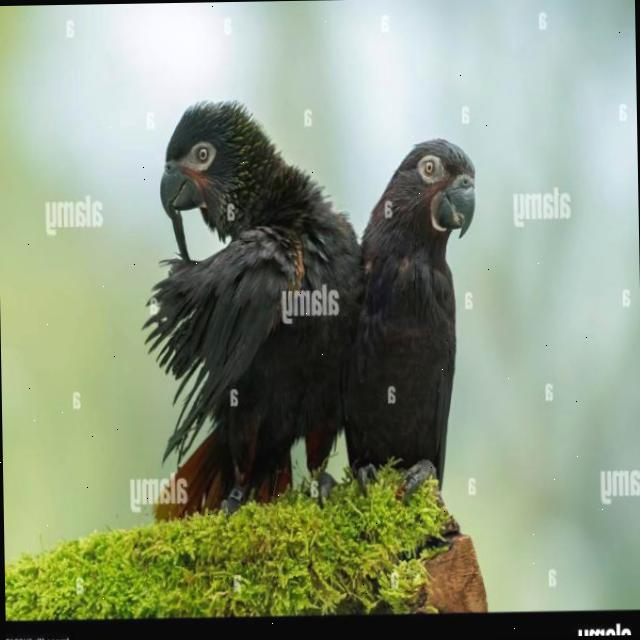Nuri Hitam: (114, 50, 378, 544), (338, 116, 490, 518)
